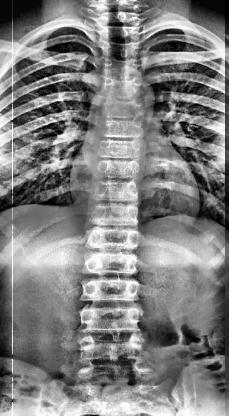Vertebrae: (82, 304, 142, 334), (80, 332, 146, 359), (82, 363, 150, 387), (80, 276, 142, 301), (92, 201, 144, 225), (92, 229, 144, 253), (87, 254, 139, 278), (92, 180, 146, 202), (97, 136, 148, 158), (102, 76, 146, 100), (101, 99, 151, 119), (97, 159, 143, 179), (101, 120, 149, 136), (104, 62, 144, 80), (107, 44, 141, 61)
